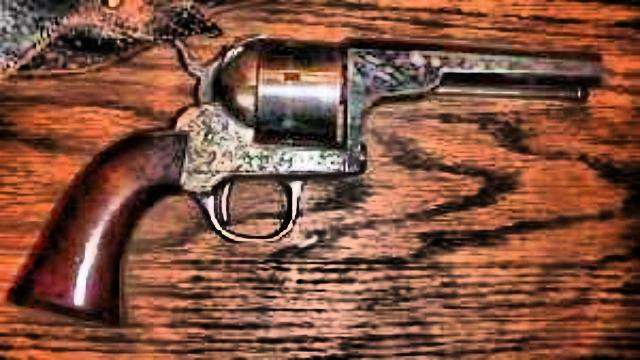pistol: (1, 22, 600, 316)
